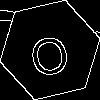O: (25, 25, 72, 79)
